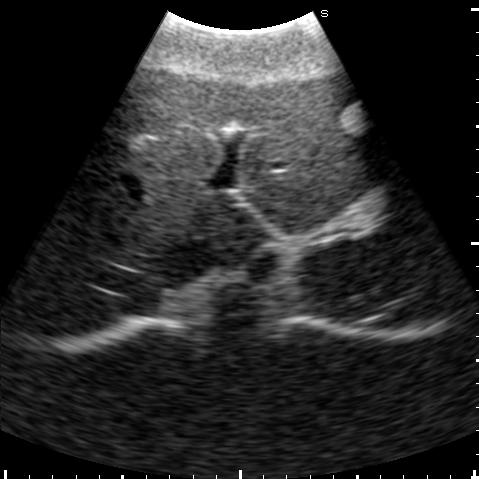IVC: (160, 237, 223, 289)
S1: (197, 194, 269, 264)
S2: (244, 148, 401, 234)
S3: (234, 68, 386, 200)
Tumor: (339, 107, 365, 133)
